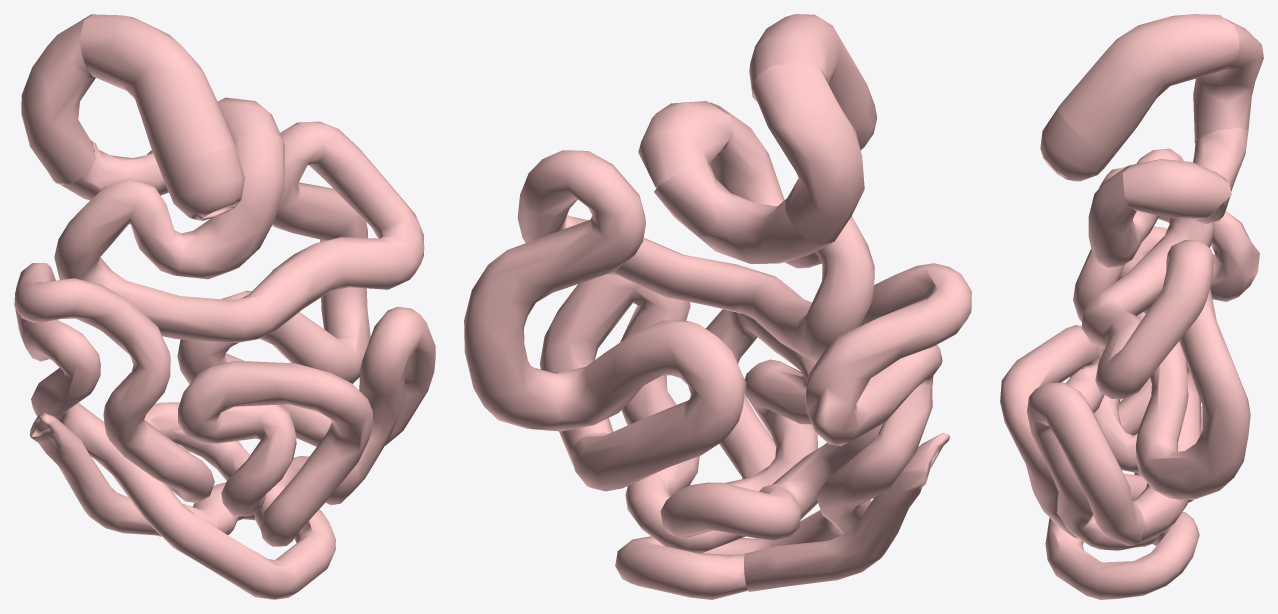
Rendered from vh_f_small_intestine-20.fbx.
The picture shows the model from 3 angles, left to right: view 1: azimuth 30°, elevation 25°; view 2: azimuth 150°, elevation 25°; view 3: azimuth 270°, elevation 25°; orthographic projection. The views are drawn at different scales.
Parts seen in each view (by area): view 1: VH_F_ileum, VH_F_jejenum, VH_F_duodenum_superior, VH_F_duodenum_descending, VH_F_ileum_terminal, VH_F_duodenal_ampulla, VH_F_duodenum_horizontal, VH_F_duodenum_ascending; view 2: VH_F_ileum, VH_F_jejenum, VH_F_duodenum_descending, VH_F_ileum_terminal, VH_F_duodenum_horizontal, VH_F_duodenum_superior, VH_F_duodenum_ascending; view 3: VH_F_jejenum, VH_F_ileum, VH_F_duodenum_superior, VH_F_duodenum_ascending, VH_F_duodenum_descending, VH_F_duodenal_ampulla, VH_F_duodenum_horizontal.
Part boxes in pixels (x1,y1,x2,y2): VH_F_ileum: (14, 263, 435, 599); VH_F_jejenum: (54, 121, 424, 446); VH_F_duodenum_superior: (80, 14, 234, 174); VH_F_duodenum_descending: (21, 14, 95, 183); VH_F_ileum_terminal: (29, 413, 217, 536); VH_F_duodenal_ampulla: (162, 146, 244, 220); VH_F_duodenum_horizontal: (49, 140, 168, 200); VH_F_duodenum_ascending: (217, 97, 283, 142); VH_F_ileum: (540, 263, 971, 599); VH_F_jejenum: (464, 102, 874, 491); VH_F_duodenum_descending: (751, 62, 864, 244); VH_F_ileum_terminal: (744, 433, 949, 591); VH_F_duodenum_horizontal: (654, 163, 832, 263); VH_F_duodenum_superior: (749, 14, 869, 129); VH_F_duodenum_ascending: (638, 101, 733, 188); VH_F_jejenum: (1081, 148, 1250, 545); VH_F_ileum: (1000, 167, 1259, 599); VH_F_duodenum_superior: (1058, 14, 1239, 152); VH_F_duodenum_ascending: (1122, 159, 1231, 219); VH_F_duodenum_descending: (1193, 18, 1263, 142); VH_F_duodenal_ampulla: (1040, 107, 1117, 181); VH_F_duodenum_horizontal: (1191, 127, 1248, 223).
Size of the model in its own units: 16.17 by 21.7 by 10.03.
